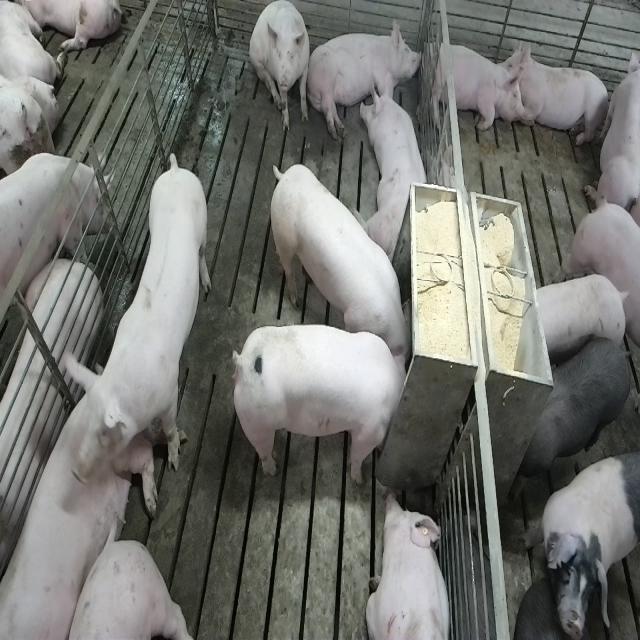Feeding: (265, 160, 412, 366), (226, 322, 408, 484)
Lateral_lying: (0, 253, 100, 591), (306, 15, 424, 142)
Sitting: (250, 1, 311, 134)
Standing: (57, 158, 211, 488), (510, 337, 638, 501), (0, 156, 105, 349), (534, 454, 636, 622), (566, 193, 640, 342), (532, 274, 629, 358)
Sternal_lying: (0, 365, 149, 635), (365, 489, 453, 640), (365, 71, 433, 260), (511, 42, 612, 149), (422, 36, 526, 137), (587, 36, 637, 242)
